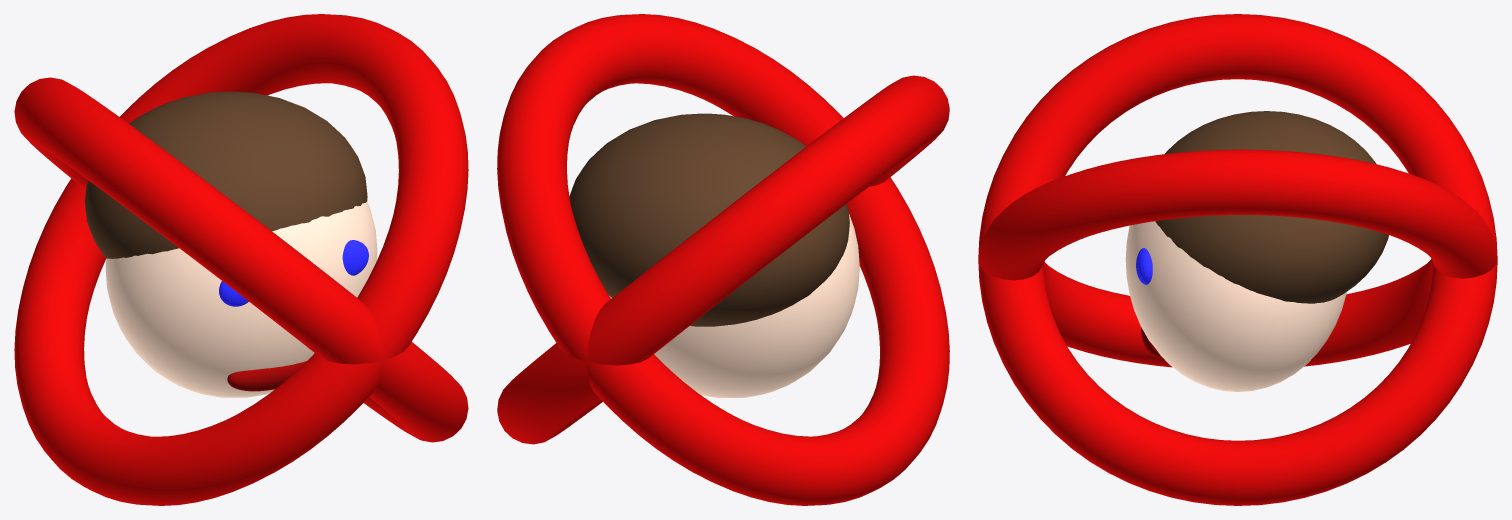
3 views of the same model, side by side, from view 1: azimuth 30°, elevation 25°; view 2: azimuth 150°, elevation 25°; view 3: azimuth 270°, elevation 25° (orthographic). The views are drawn at different scales.
Parts seen in each view (by area): view 1: Torus.001, Torus, hair, head, mouth, eye.001; view 2: Torus.001, Torus, hair, head; view 3: Torus, Torus.001, hair, head.
Part boxes in pixels (bbox=[...]): Torus.001: bbox=[14, 14, 468, 505]; Torus: bbox=[14, 77, 468, 442]; hair: bbox=[84, 91, 367, 258]; head: bbox=[105, 201, 377, 397]; mouth: bbox=[227, 361, 306, 391]; eye.001: bbox=[342, 240, 368, 275]; Torus.001: bbox=[497, 14, 949, 505]; Torus: bbox=[497, 75, 949, 444]; hair: bbox=[569, 113, 849, 326]; head: bbox=[609, 214, 859, 397]; Torus: bbox=[978, 14, 1497, 505]; Torus.001: bbox=[978, 149, 1497, 367]; hair: bbox=[1155, 111, 1388, 303]; head: bbox=[1125, 221, 1346, 391].
Bounding box in the file's own units: 1.48 × 1.48 × 1.99.
